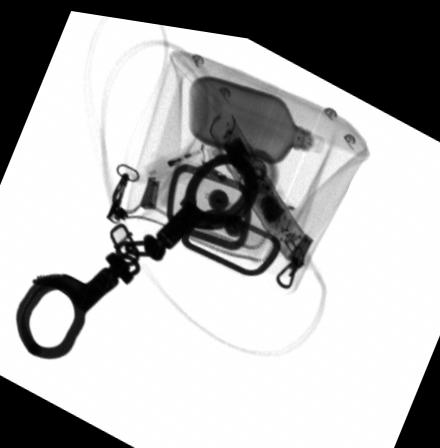Baton: (208, 108, 312, 251)
HandCuffs: (16, 142, 260, 358)
Lighter: (135, 131, 206, 180)
